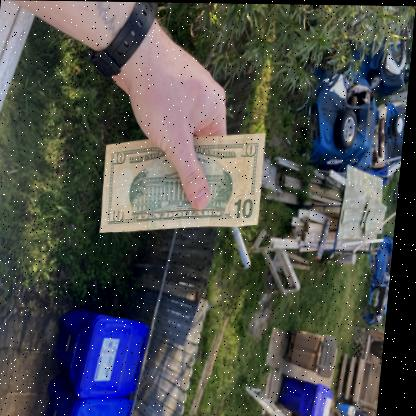ten-back: (100, 129, 268, 234)
